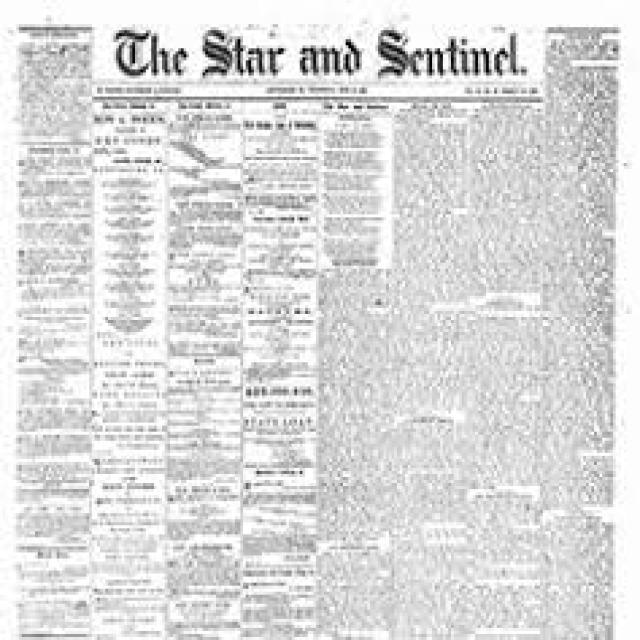paper: (13, 27, 640, 640)
